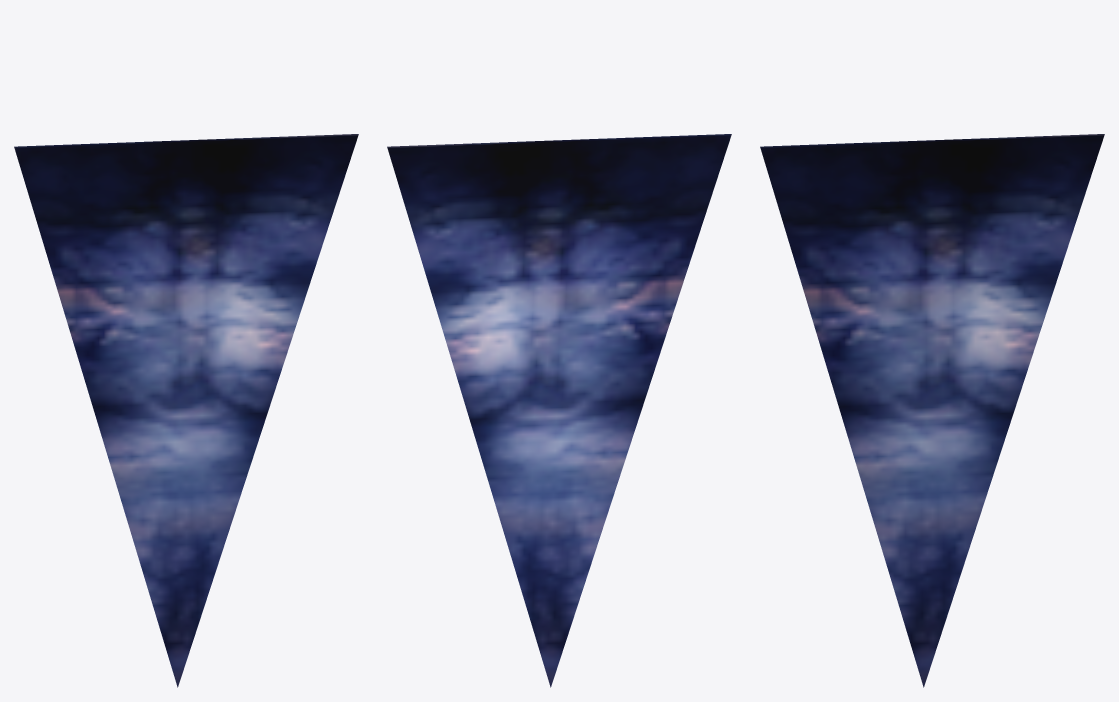
3 renders of one model, left to right at view 1: azimuth 30°, elevation 25°; view 2: azimuth 150°, elevation 25°; view 3: azimuth 270°, elevation 25°, orthographic.
Visible parts, largest first — view 1: Object30; view 2: Object30; view 3: Object30.
Part boxes in pixels (bbox=[...]): Object30: bbox=[14, 134, 358, 687]; Object30: bbox=[387, 134, 731, 687]; Object30: bbox=[760, 134, 1104, 687].
Size of the model in its own units: 1010 by 2095 by 1110.
Materials: 1 (1 with a texture image).
